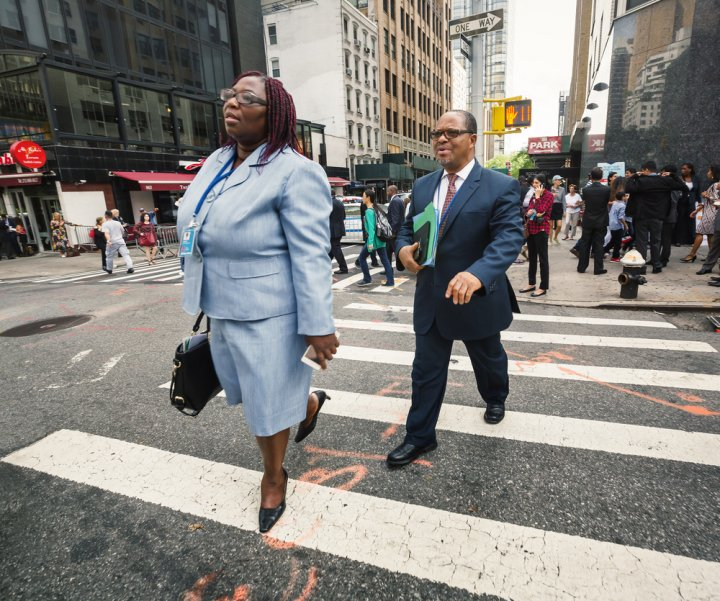pedestrian: (166, 63, 343, 540), (377, 101, 519, 468), (520, 174, 557, 301), (352, 191, 399, 286), (577, 168, 611, 276), (687, 162, 720, 266)
